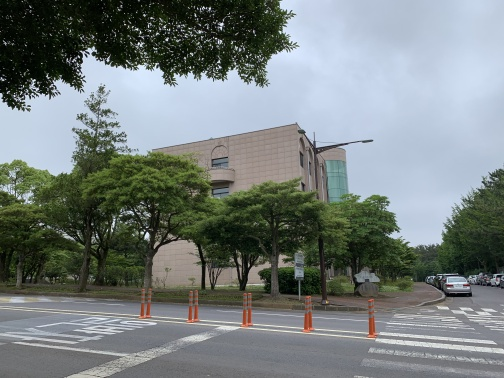Natural Science2: (152, 123, 357, 211)
